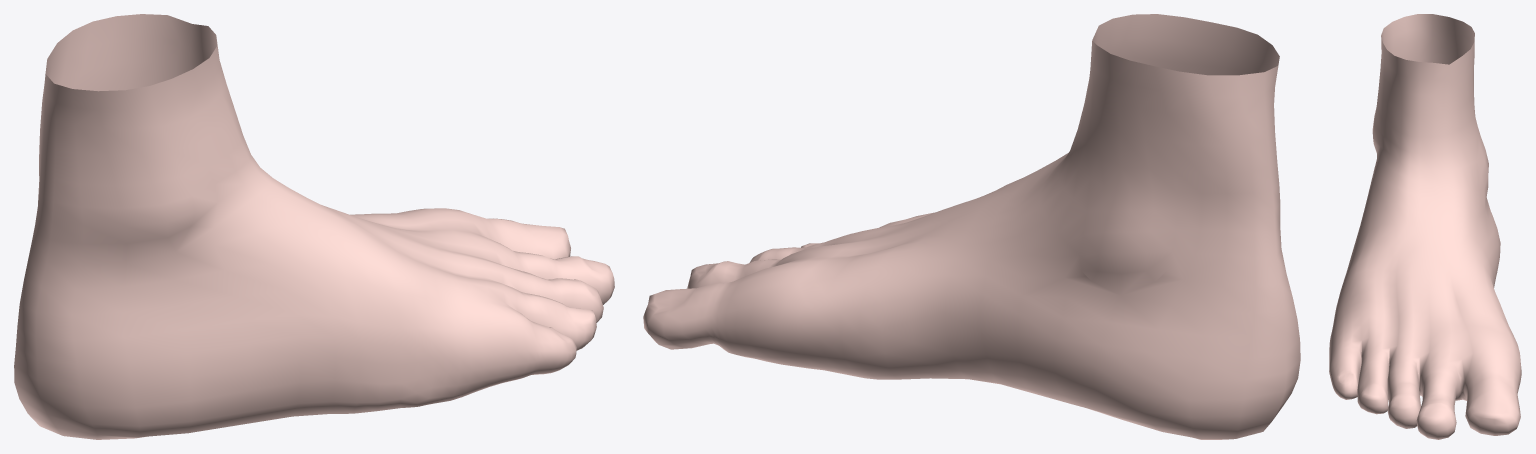
Rendered from Right Feet.gltf.
3 views of the same model, side by side, from view 1: azimuth 30°, elevation 25°; view 2: azimuth 150°, elevation 25°; view 3: azimuth 270°, elevation 25° (orthographic). The views are drawn at different scales.
Parts seen in each view (by area): view 1: leg; view 2: leg; view 3: leg.
Boxes of the visible parts, left/top/right/bottom form: leg: left=14, top=14, right=614, bottom=439; leg: left=643, top=14, right=1300, bottom=439; leg: left=1329, top=14, right=1521, bottom=439.
Bounding box in the file's own units: 2.86 × 1.75 × 1.2.
